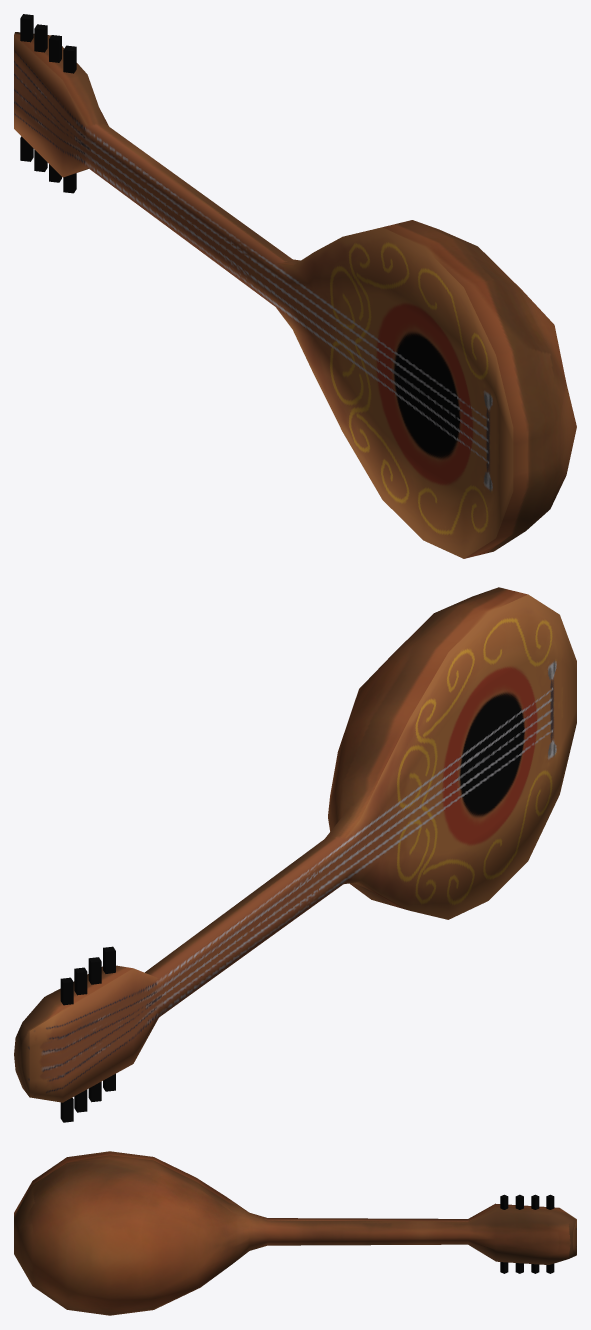
File: Lute Lvl 1.fbx
The picture shows the model from 3 angles, top to bottom: view 1: azimuth 30°, elevation 25°; view 2: azimuth 150°, elevation 25°; view 3: azimuth 270°, elevation 25°; orthographic projection. The views are drawn at different scales.
Parts seen in each view (by area): view 1: Lute Lvl 1; view 2: Lute Lvl 1; view 3: Lute Lvl 1.
Part boxes in pixels (box(x1,y1,x2,y2)): Lute Lvl 1: box(14, 14, 576, 558); Lute Lvl 1: box(14, 587, 576, 1122); Lute Lvl 1: box(14, 1151, 576, 1315).
Bounding box in the file's own units: 0.1238 × 0.313 × 1.02.
Materials: 1 (1 with a texture image).
